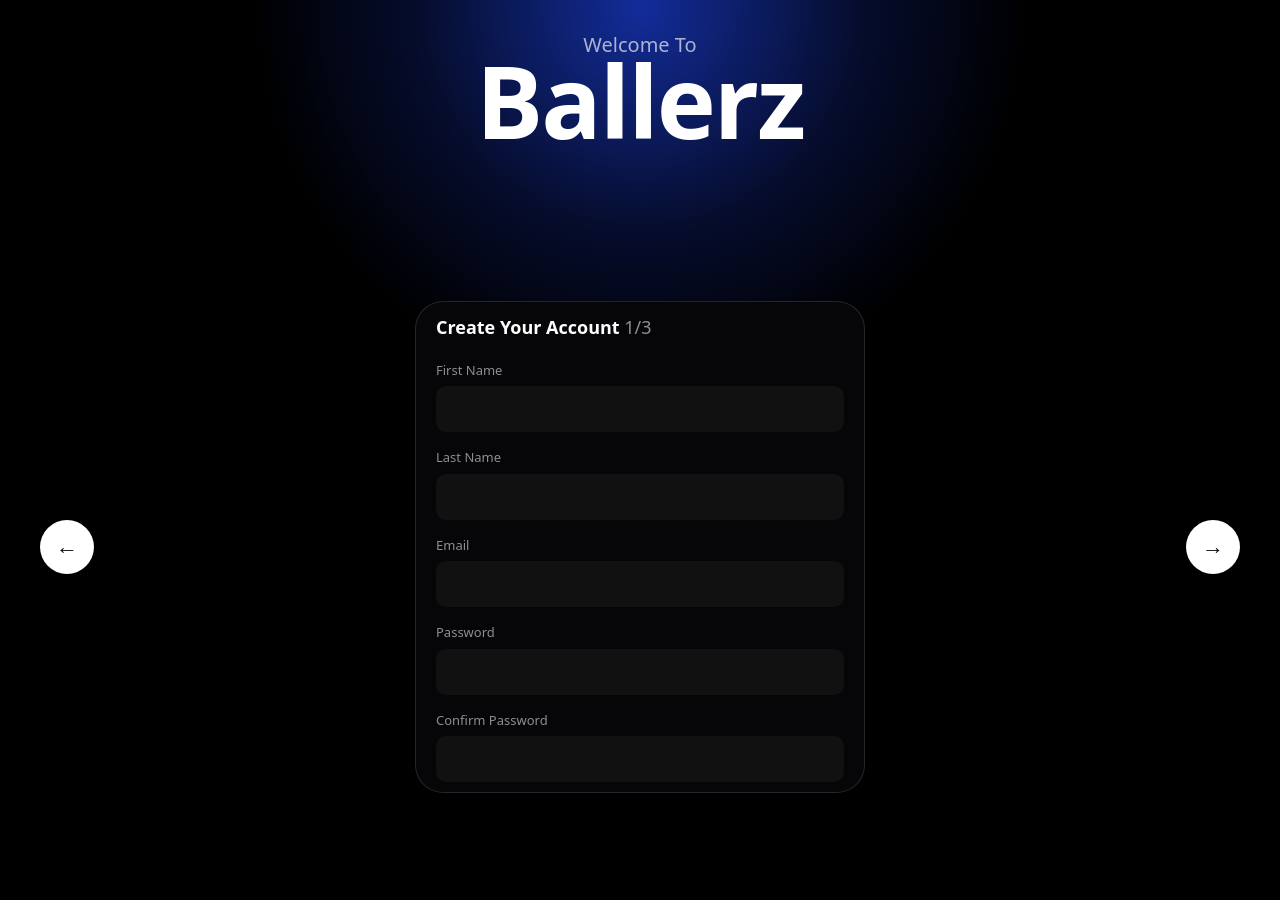
Test: GetStartedPage — Step 1 › shows a validation error when any field is empty
// Dummy: no input provided — all fields stay empty
Click the button named "Go to next step". click: (1213, 547)
box: top-left (1186, 520), bottom-right (1240, 574)
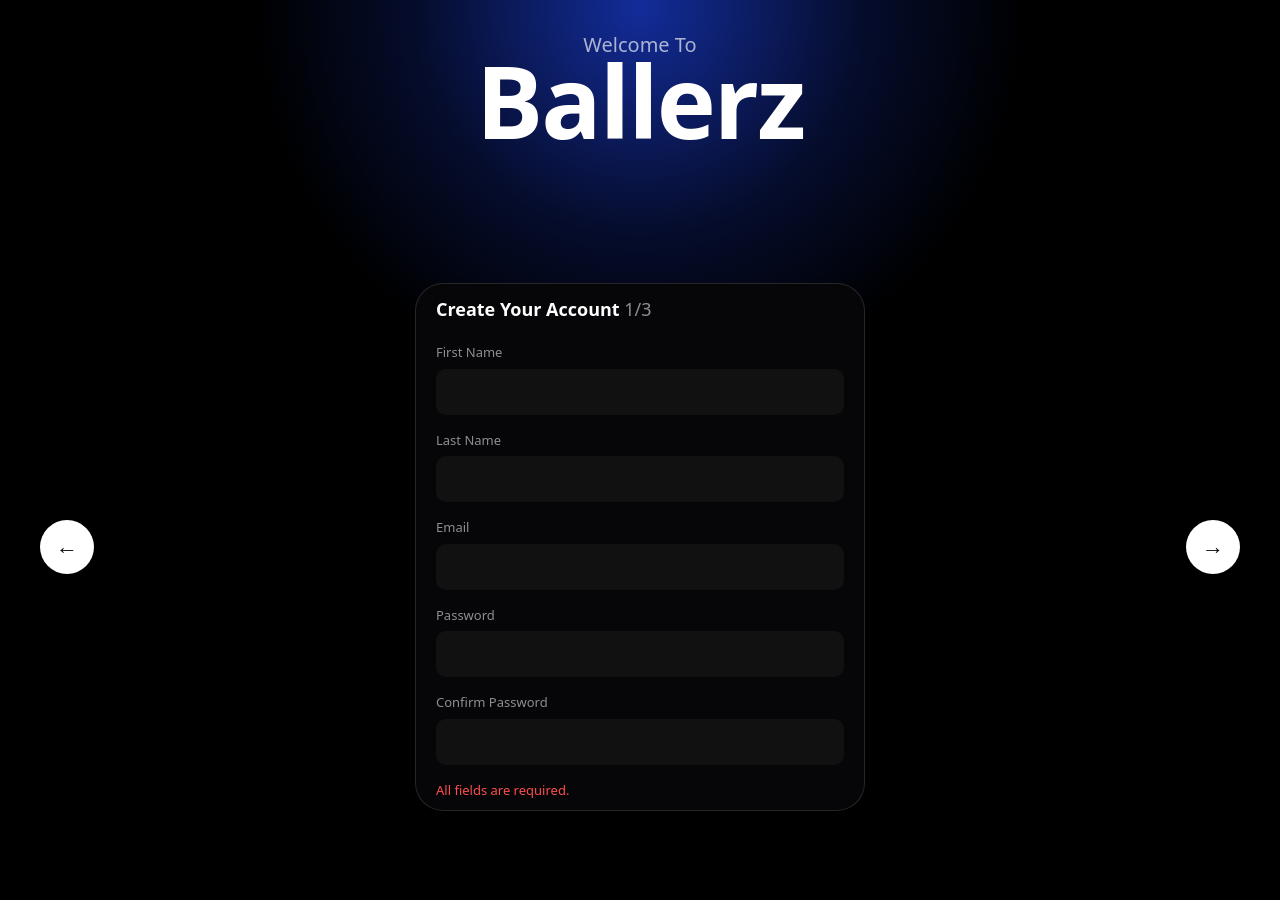
Check: the text "All fields are required." is shown, box top-left (436, 780), bottom-right (569, 798)
